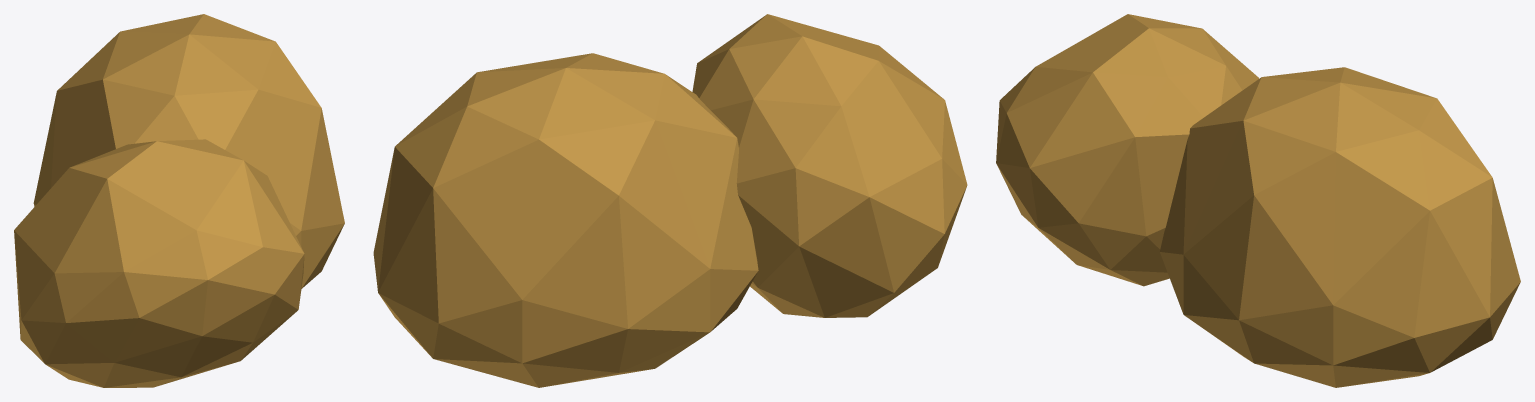
Rendered from bush_orange_3.glb.
3 views of the same model, side by side, from view 1: azimuth 30°, elevation 25°; view 2: azimuth 150°, elevation 25°; view 3: azimuth 270°, elevation 25° (orthographic). The views are drawn at different scales.
Parts seen in each view (by area): view 1: Liurnia Bushes.001; view 2: Liurnia Bushes.001; view 3: Liurnia Bushes.001.
Part boxes in pixels (<box>): Liurnia Bushes.001: <box>14,14,344,387</box>; Liurnia Bushes.001: <box>373,14,967,387</box>; Liurnia Bushes.001: <box>996,14,1520,387</box>.
Bounding box in the file's own units: 0.0726 × 0.0474 × 0.08.
